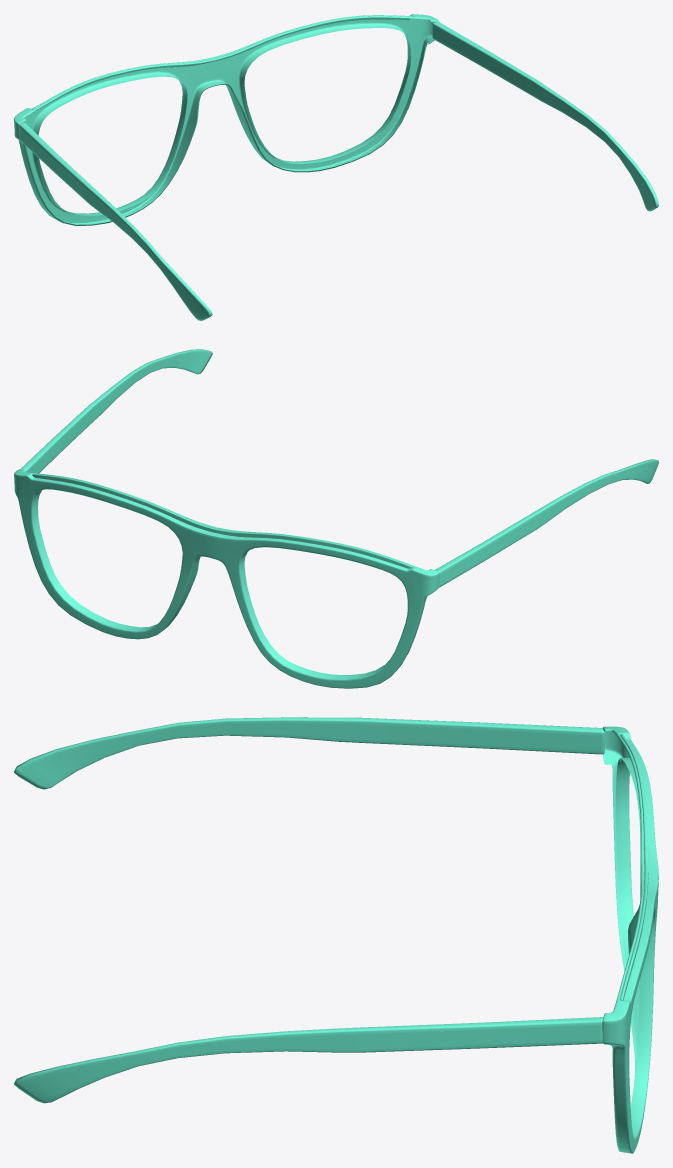
The model's file is sunglass_sea_green.fbx.
3 renders of one model, top to bottom at view 1: azimuth 30°, elevation 25°; view 2: azimuth 150°, elevation 25°; view 3: azimuth 270°, elevation 25°, orthographic. The views are drawn at different scales.
Parts seen in each view (by area): view 1: am_body.001; view 2: am_body.001; view 3: am_body.001.
Part boxes in pixels (x1,y1,x2,y2): am_body.001: (14,14,658,320); am_body.001: (14,349,658,688); am_body.001: (14,717,658,1153).
Bounding box in the file's own units: 16.26 × 4.9 × 13.72.
